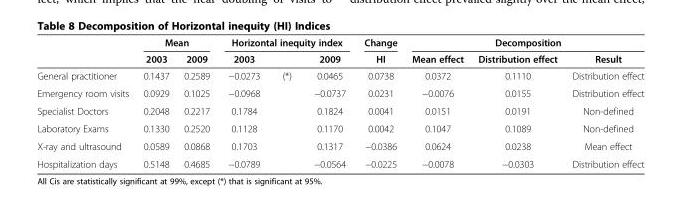table: (36, 36, 643, 169)
table column: (36, 36, 135, 169), (470, 36, 564, 169), (564, 36, 643, 169), (403, 36, 470, 169), (218, 36, 270, 169), (302, 36, 354, 169), (354, 36, 403, 169), (175, 36, 218, 169), (135, 36, 175, 169), (270, 36, 302, 169)
table column header: (36, 36, 643, 66)
table row: (36, 83, 643, 101), (36, 101, 643, 119), (36, 136, 643, 154), (36, 66, 643, 83), (36, 119, 643, 136), (36, 50, 643, 66), (36, 154, 643, 169), (36, 36, 643, 50)
table spanning cell: (403, 36, 643, 50), (218, 36, 354, 50), (354, 36, 403, 66), (135, 36, 218, 50)
